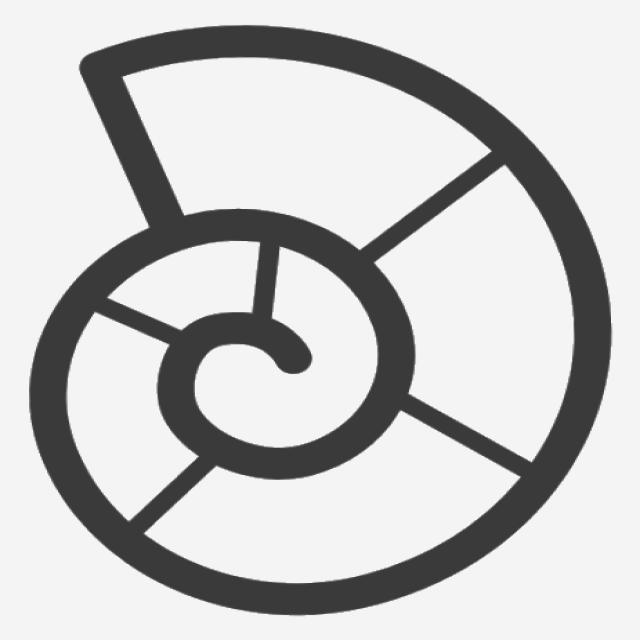fossil: (19, 19, 625, 631)
